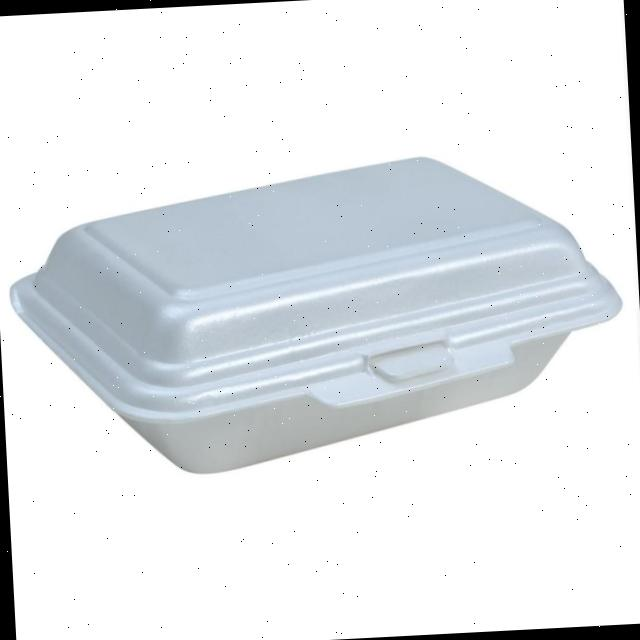styrofoam: (2, 142, 630, 484)
